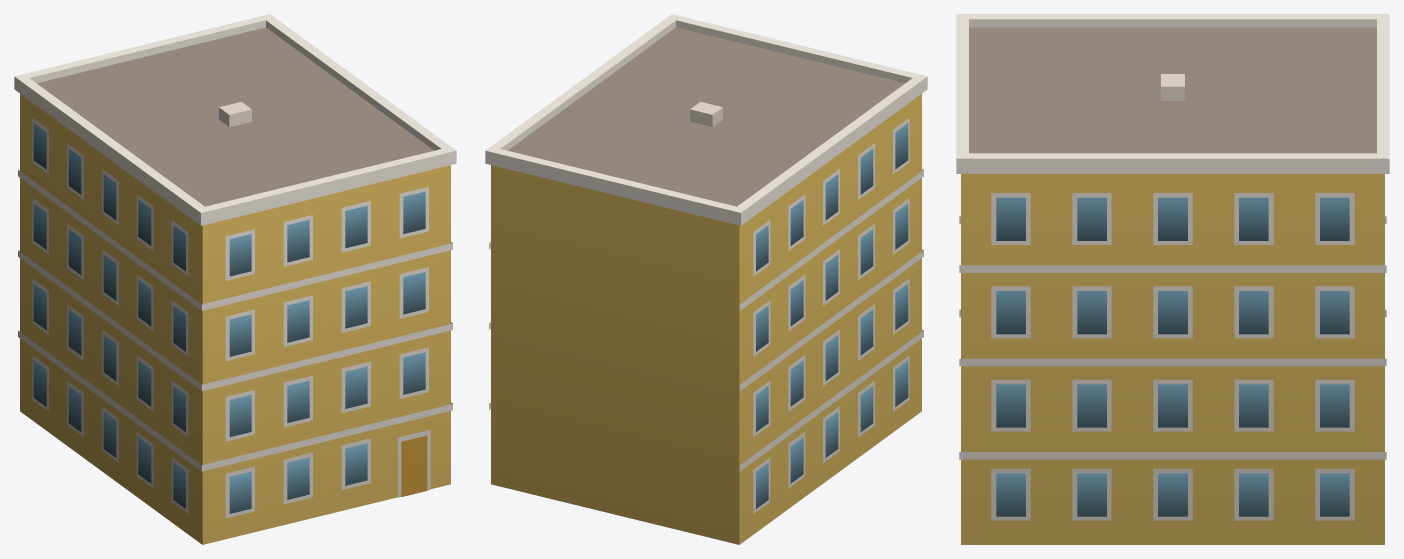
Rendered from boylston_s9_far.glb.
The picture shows the model from 3 angles, left to right: view 1: azimuth 30°, elevation 25°; view 2: azimuth 150°, elevation 25°; view 3: azimuth 270°, elevation 25°; orthographic projection. The views are drawn at different scales.
Parts seen in each view (by area): view 1: boylston_s9_far; view 2: boylston_s9_far; view 3: boylston_s9_far.
Boxes of the visible parts, x1,y1,x2,y2 form: boylston_s9_far: (14, 14, 456, 544); boylston_s9_far: (485, 14, 927, 544); boylston_s9_far: (956, 14, 1389, 544).
Bounding box in the file's own units: 11.32 × 14.37 × 14.32.
1 material, 1 textured.
